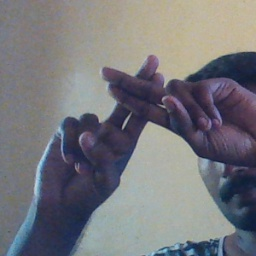F: (77, 51, 204, 160)
